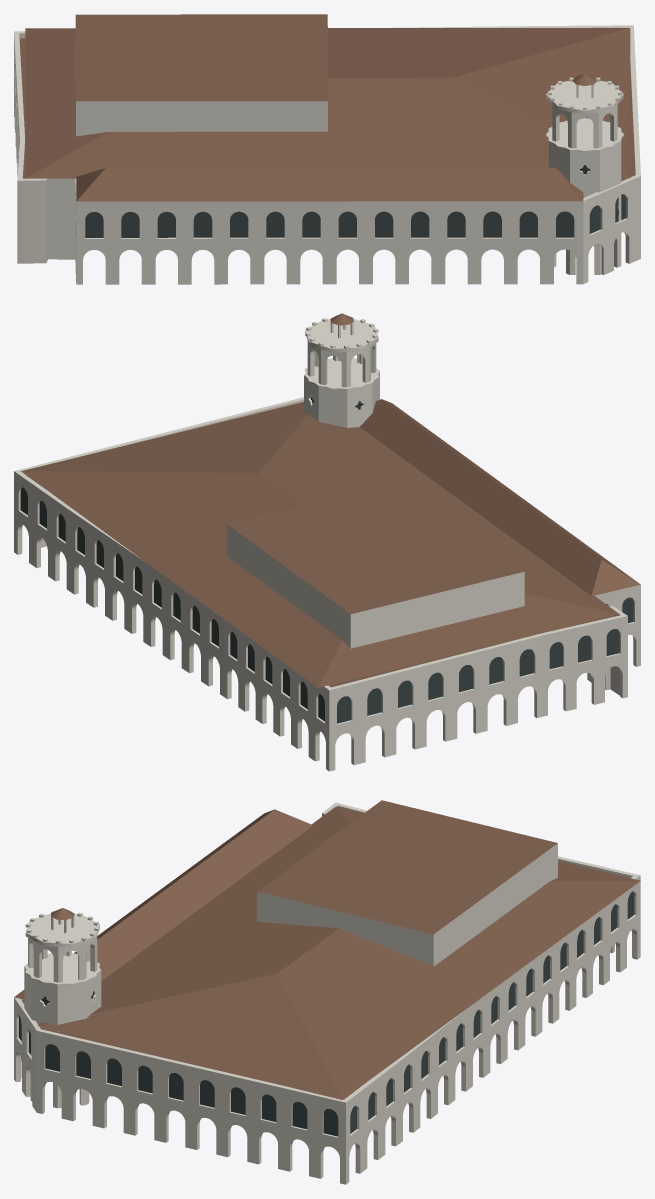
The model's file is riverside-fox-theater-near.glb.
3 renders of one model, top to bottom at view 1: azimuth 30°, elevation 25°; view 2: azimuth 150°, elevation 25°; view 3: azimuth 270°, elevation 25°, orthographic. The views are drawn at different scales.
Visible parts, largest first — view 1: riverside-fox-theater-0-roof, riverside-fox-theater-0-stone, riverside-fox-theater-0-glass; view 2: riverside-fox-theater-0-roof, riverside-fox-theater-0-stone, riverside-fox-theater-0-glass; view 3: riverside-fox-theater-0-roof, riverside-fox-theater-0-stone, riverside-fox-theater-0-glass.
Boxes of the visible parts, bbox=[...] form: riverside-fox-theater-0-roof: bbox=[19, 14, 635, 201]; riverside-fox-theater-0-stone: bbox=[14, 25, 640, 284]; riverside-fox-theater-0-glass: bbox=[85, 194, 626, 237]; riverside-fox-theater-0-roof: bbox=[21, 313, 640, 687]; riverside-fox-theater-0-stone: bbox=[14, 316, 640, 771]; riverside-fox-theater-0-glass: bbox=[20, 487, 633, 723]; riverside-fox-theater-0-roof: bbox=[14, 800, 640, 1099]; riverside-fox-theater-0-stone: bbox=[14, 802, 640, 1184]; riverside-fox-theater-0-glass: bbox=[19, 891, 634, 1136].
Size of the model in its own units: 76.89 by 22 by 67.86.
